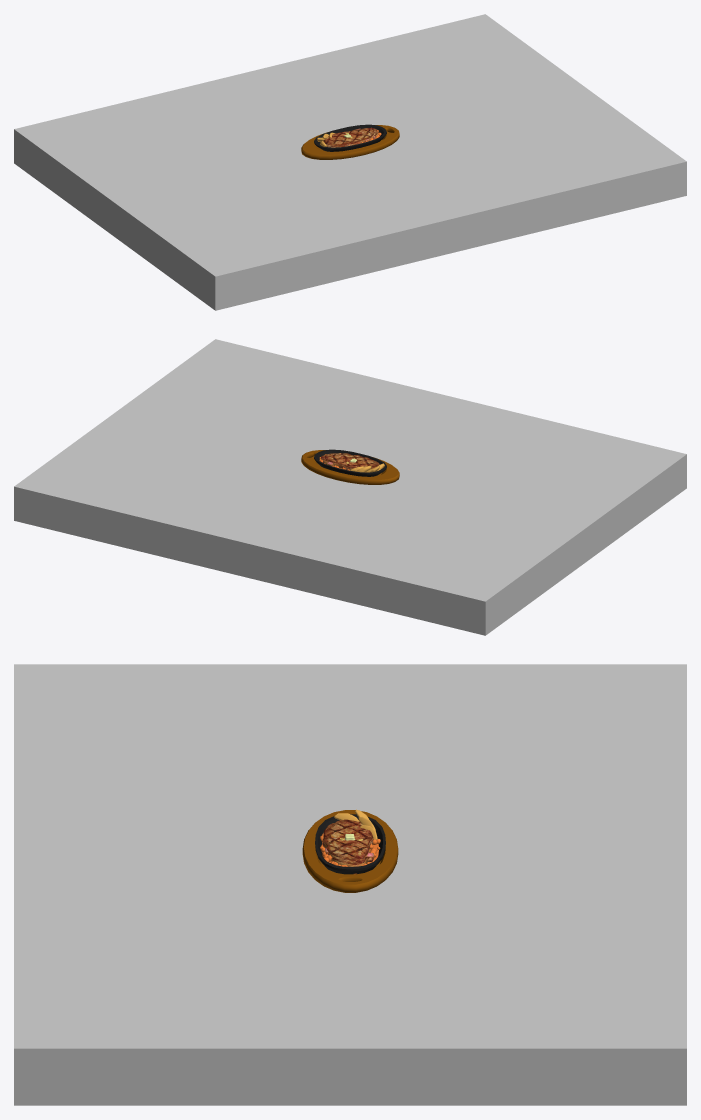
The model's file is steak.fbx.
3 renders of one model, top to bottom at view 1: azimuth 30°, elevation 25°; view 2: azimuth 150°, elevation 25°; view 3: azimuth 270°, elevation 25°, orthographic. The views are drawn at different scales.
Visible parts, largest first — view 1: Cube, Cylinder, Cube.001, Cylinder.002; view 2: Cube, Cylinder, Cube.001, Cylinder.002; view 3: Cube, Cylinder, Cylinder.002, Cube.001.
Boxes of the visible parts, left/top/right/bottom form: Cube: left=14, top=14, right=686, bottom=310; Cylinder: left=301, top=125, right=399, bottom=159; Cube.001: left=314, top=124, right=386, bottom=151; Cylinder.002: left=323, top=128, right=374, bottom=147; Cube: left=14, top=339, right=686, bottom=635; Cylinder: left=301, top=450, right=399, bottom=484; Cube.001: left=314, top=449, right=386, bottom=476; Cylinder.002: left=324, top=453, right=378, bottom=469; Cube: left=14, top=664, right=686, bottom=1105; Cylinder: left=302, top=810, right=398, bottom=892; Cylinder.002: left=322, top=819, right=373, bottom=861; Cube.001: left=315, top=814, right=385, bottom=874.
Size of the model in its own units: 2383 by 358 by 1763.
